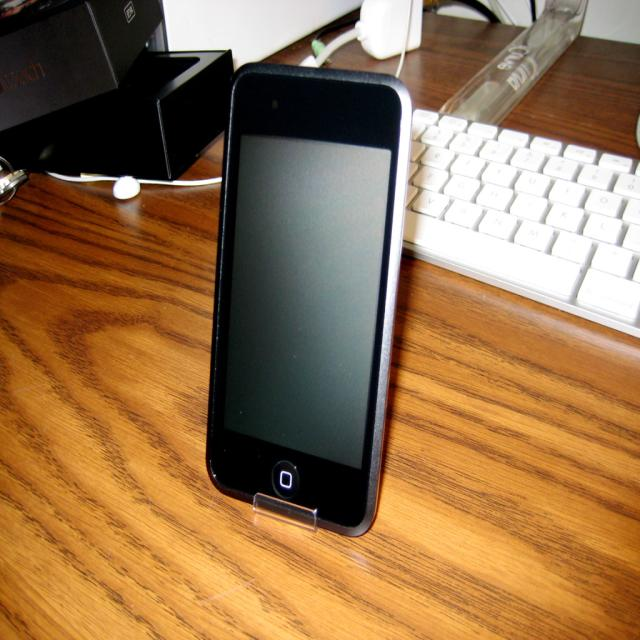Mobile-phone: (204, 61, 412, 539)
